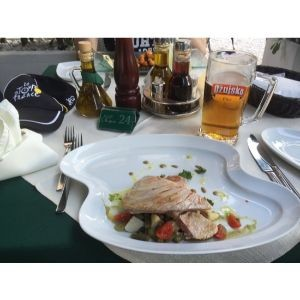tuna_brain food: (117, 168, 216, 243)
